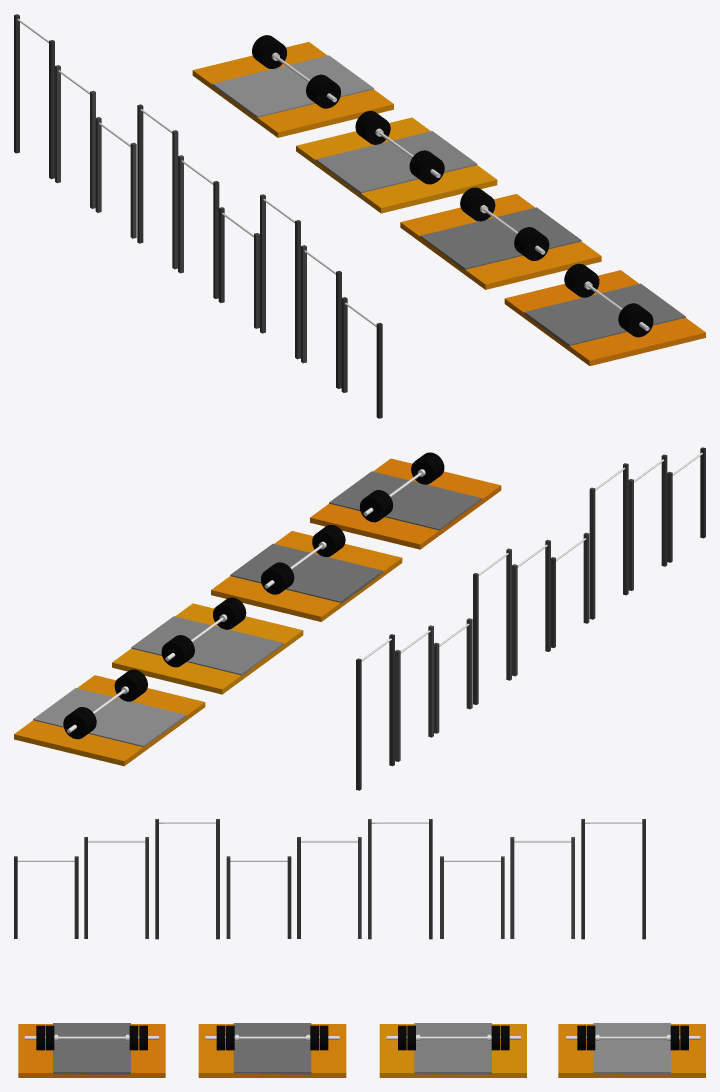
File: gym.fbx
3 renders of one model, top to bottom at view 1: azimuth 30°, elevation 25°; view 2: azimuth 150°, elevation 25°; view 3: azimuth 270°, elevation 25°, orthographic. The views are drawn at different scales.
Visible parts, largest first — view 1: Cube.013, Cube.009, Cube.006, Cube.011, Cube.012, Cube.010, Cube.008, Cube.007, Cube.015, Cube.014, Cube.005, Cube.020 (+21 smaller); view 2: Cube.011, Cube.013, Cube.009, Cube.006, Cube.007, Cube.010, Cube.008, Cube.012, Cube.004, Cube.021, Cube.015, Cube.005 (+21 smaller); view 3: Cube.007, Cube.008, Cube.010, Cube.012, Cube.006, Cube.011, Cube.009, Cube.013, Cube.022, Cube.004, Cube.005, Cube.014 (+6 smaller).
Boxes of the visible parts, x1=… form: Cube.013: x1=504, y1=270, x2=705, y2=365; Cube.009: x1=296, y1=117, x2=497, y2=213; Cube.006: x1=400, y1=194, x2=601, y2=289; Cube.011: x1=192, y1=42, x2=393, y2=137; Cube.012: x1=524, y1=283, x2=685, y2=347; Cube.010: x1=212, y1=55, x2=373, y2=118; Cube.008: x1=316, y1=131, x2=477, y2=194; Cube.007: x1=420, y1=207, x2=581, y2=270; Cube.015: x1=137, y1=104, x2=143, y2=243; Cube.014: x1=172, y1=130, x2=178, y2=269; Cube.005: x1=295, y1=220, x2=300, y2=359; Cube.020: x1=49, y1=40, x2=54, y2=179; Cube.011: x1=14, y1=675, x2=205, y2=766; Cube.013: x1=310, y1=458, x2=501, y2=549; Cube.009: x1=112, y1=603, x2=303, y2=694; Cube.006: x1=211, y1=531, x2=402, y2=621; Cube.007: x1=230, y1=543, x2=383, y2=603; Cube.010: x1=33, y1=688, x2=185, y2=747; Cube.008: x1=131, y1=616, x2=283, y2=676; Cube.012: x1=329, y1=471, x2=481, y2=530; Cube.004: x1=589, y1=487, x2=595, y2=619; Cube.021: x1=356, y1=658, x2=361, y2=790; Cube.015: x1=473, y1=573, x2=478, y2=704; Cube.005: x1=623, y1=463, x2=628, y2=595; Cube.007: x1=233, y1=1023, x2=311, y2=1074; Cube.008: x1=414, y1=1023, x2=491, y2=1074; Cube.010: x1=593, y1=1023, x2=670, y2=1074; Cube.012: x1=53, y1=1023, x2=130, y2=1074; Cube.006: x1=198, y1=1024, x2=346, y2=1077; Cube.011: x1=558, y1=1024, x2=705, y2=1077; Cube.009: x1=379, y1=1024, x2=526, y2=1077; Cube.013: x1=18, y1=1024, x2=165, y2=1077; Cube.022: x1=510, y1=837, x2=514, y2=938; Cube.004: x1=216, y1=819, x2=219, y2=939; Cube.005: x1=155, y1=819, x2=158, y2=939; Cube.014: x1=368, y1=819, x2=371, y2=939.
Size of the model in its own units: 1099 by 440 by 2307.
